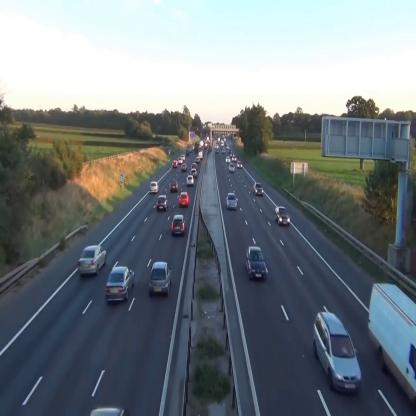car: (313, 311, 362, 394), (106, 266, 134, 305), (78, 245, 106, 276), (149, 261, 172, 298), (246, 246, 266, 280), (274, 206, 290, 227), (172, 215, 186, 237), (226, 192, 238, 210), (156, 194, 169, 210), (180, 192, 190, 207), (253, 182, 263, 196), (149, 181, 159, 193), (170, 181, 178, 192), (186, 175, 194, 186), (228, 164, 235, 172), (181, 163, 187, 172), (172, 160, 178, 168), (237, 160, 242, 168)
lorry: (368, 282, 416, 394)
